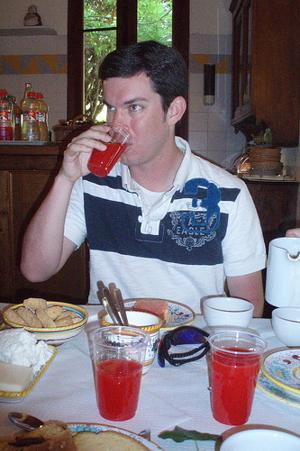person: (19, 38, 267, 319)
